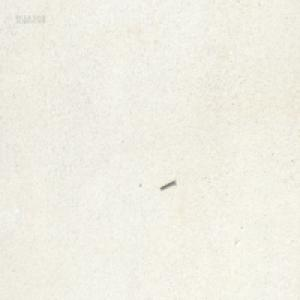Bolt: (159, 176, 175, 189)
